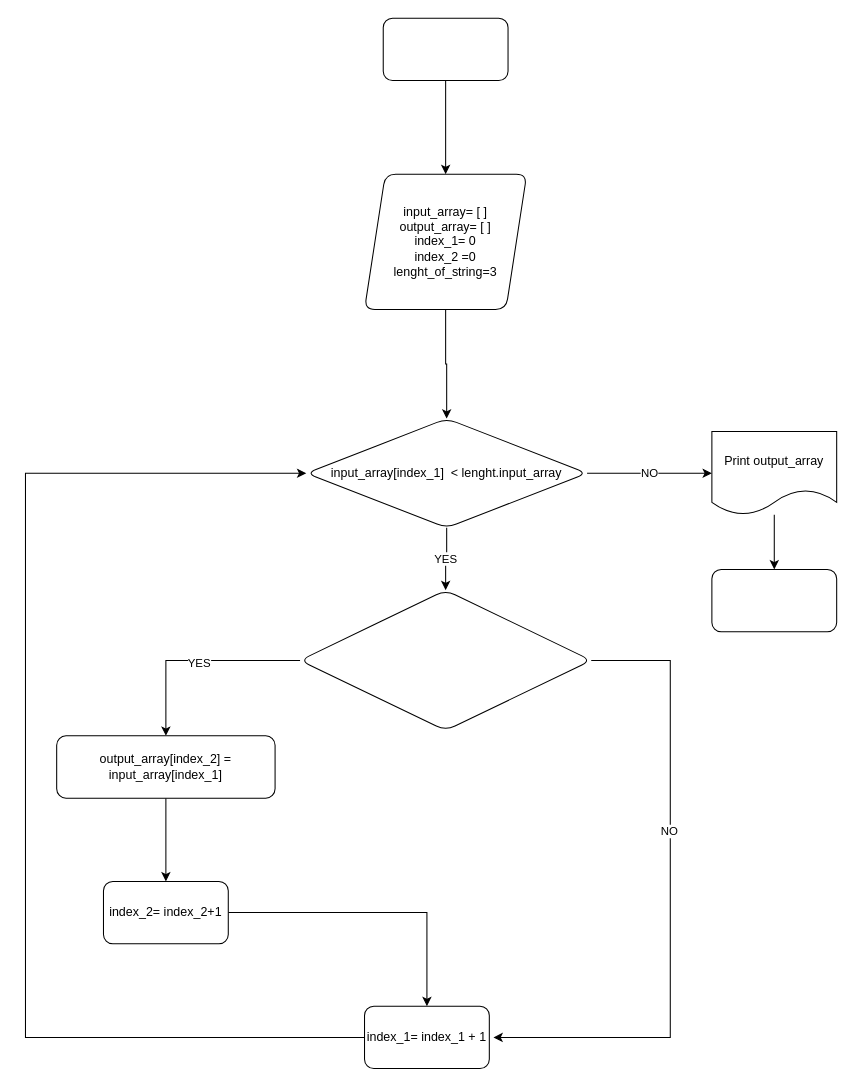
Image size: 855x1087. Some labels were removed from this diagram. The centre of each missing label's shape, as x and y in pixels:
Final: pixel 774 600
input_array [index_1] < lenght_of_string +1: pixel 445 660
start: pixel 445 49
